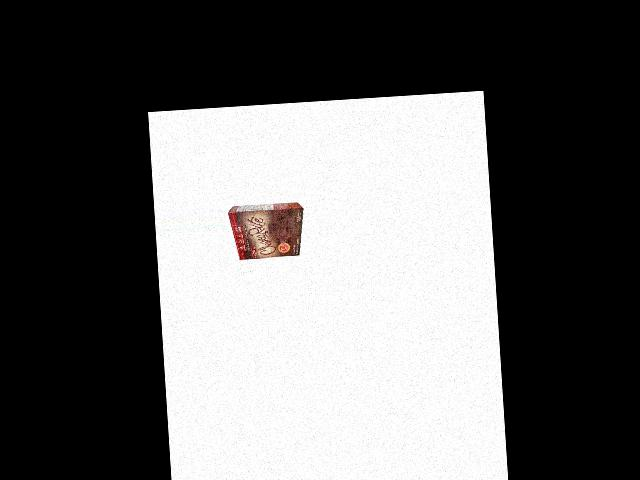chocolate: (229, 202, 306, 261)
